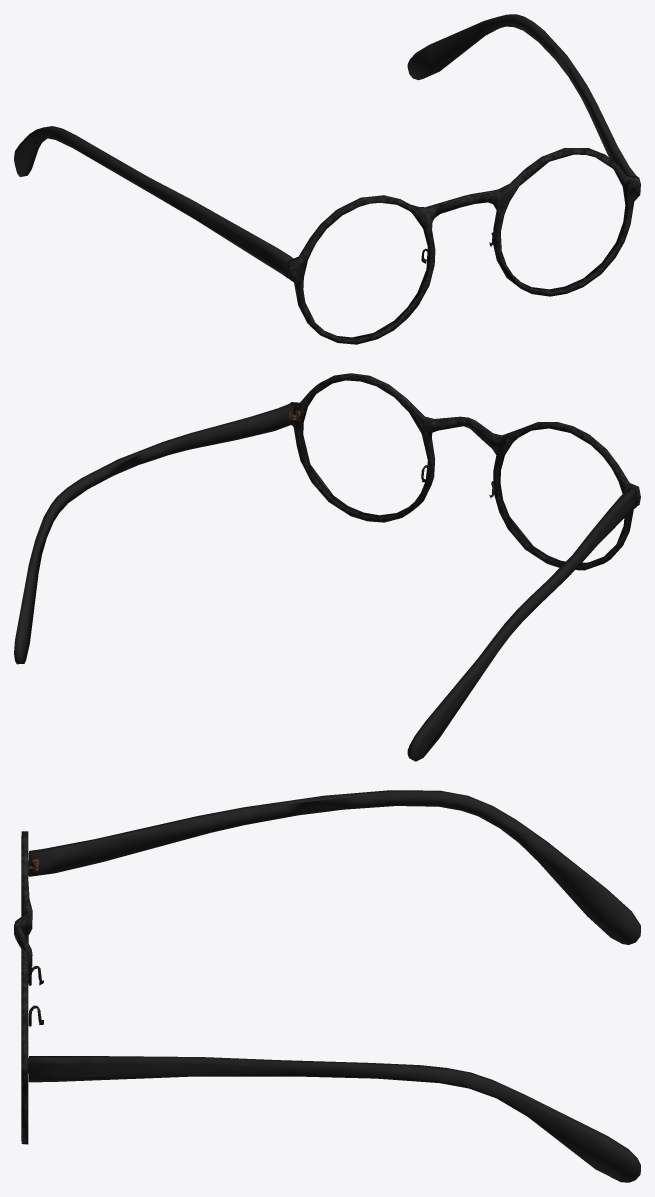
Rendered from Spectacles.fbx.
3 views of the same model, one above another, from view 1: azimuth 30°, elevation 25°; view 2: azimuth 150°, elevation 25°; view 3: azimuth 270°, elevation 25° (orthographic). The views are drawn at different scales.
Visible parts, largest first — view 1: Spectacles; view 2: Spectacles; view 3: Spectacles.
Part boxes in pixels (left/top/right/bottom): Spectacles: left=14, top=14, right=640, bottom=344; Spectacles: left=14, top=373, right=640, bottom=761; Spectacles: left=14, top=790, right=640, bottom=1182.
Size of the model in its own units: 0.1578 by 0.0464 by 0.1488.
Materials: 1 (1 with a texture image).
